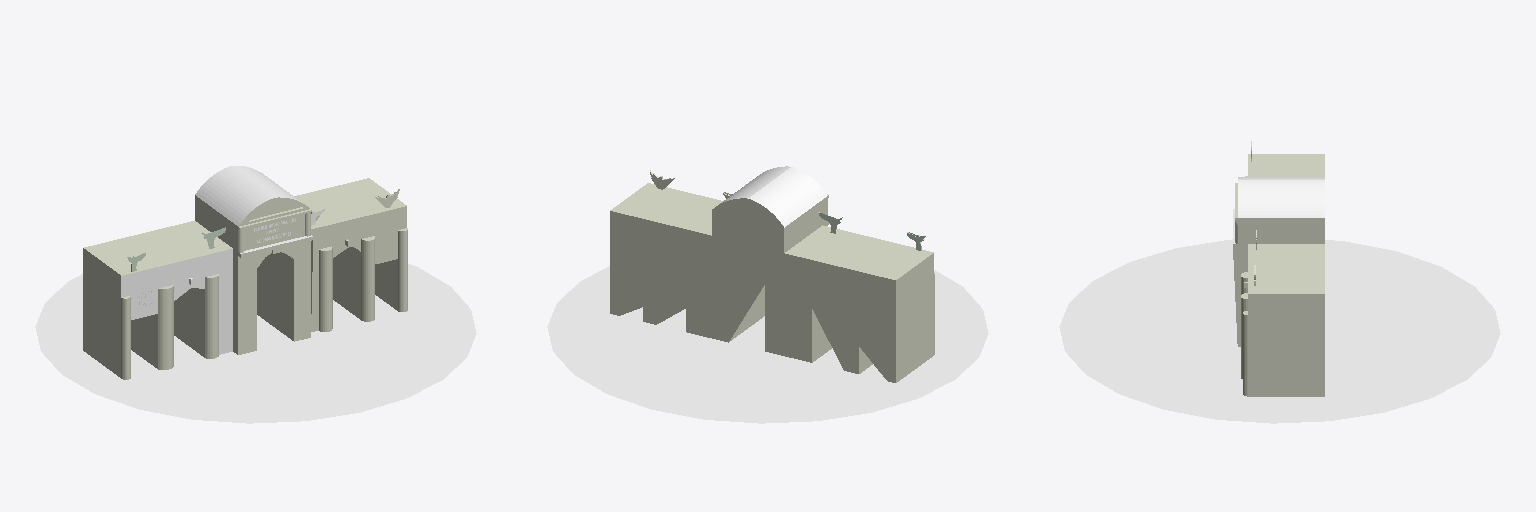
The model's file is alcala.obj.
3 views of the same model, side by side, from view 1: azimuth 30°, elevation 25°; view 2: azimuth 150°, elevation 25°; view 3: azimuth 270°, elevation 25° (orthographic).
Visible parts, largest first — view 1: Mesh29 Model; view 2: Mesh29 Model; view 3: Mesh29 Model.
Part boxes in pixels (x1,y1,x2,y2): Mesh29 Model: (35,166,476,423); Mesh29 Model: (547,166,988,423); Mesh29 Model: (1059,154,1500,423).
Bounding box in the file's own units: 7.5 × 2.79 × 7.5.